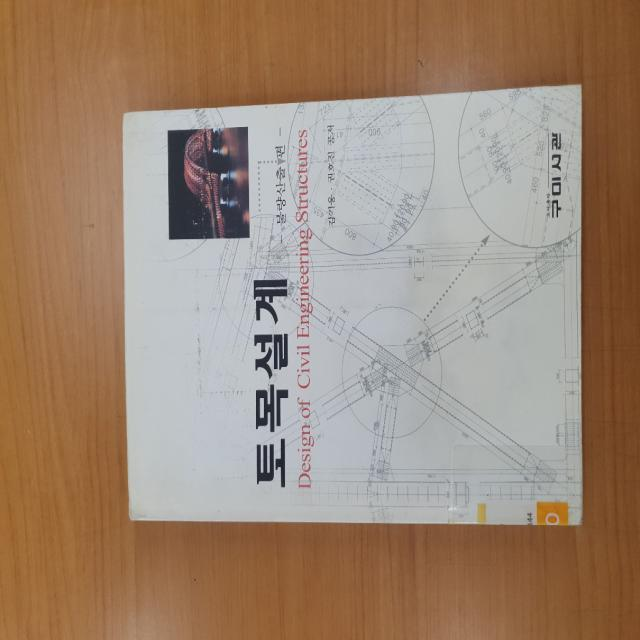Wornout: (575, 469, 588, 528), (124, 467, 137, 525)
